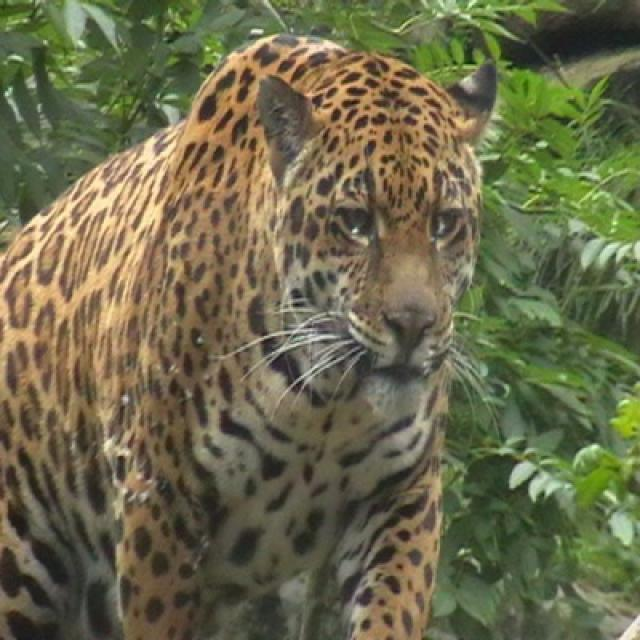Jaguar: (0, 34, 498, 638)
